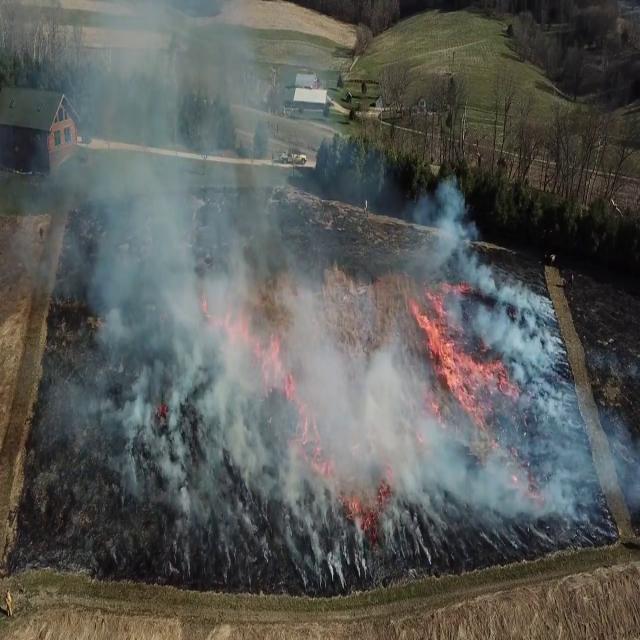Fire: (406, 272, 504, 434)
Smoke: (263, 157, 617, 567), (28, 5, 311, 354)
